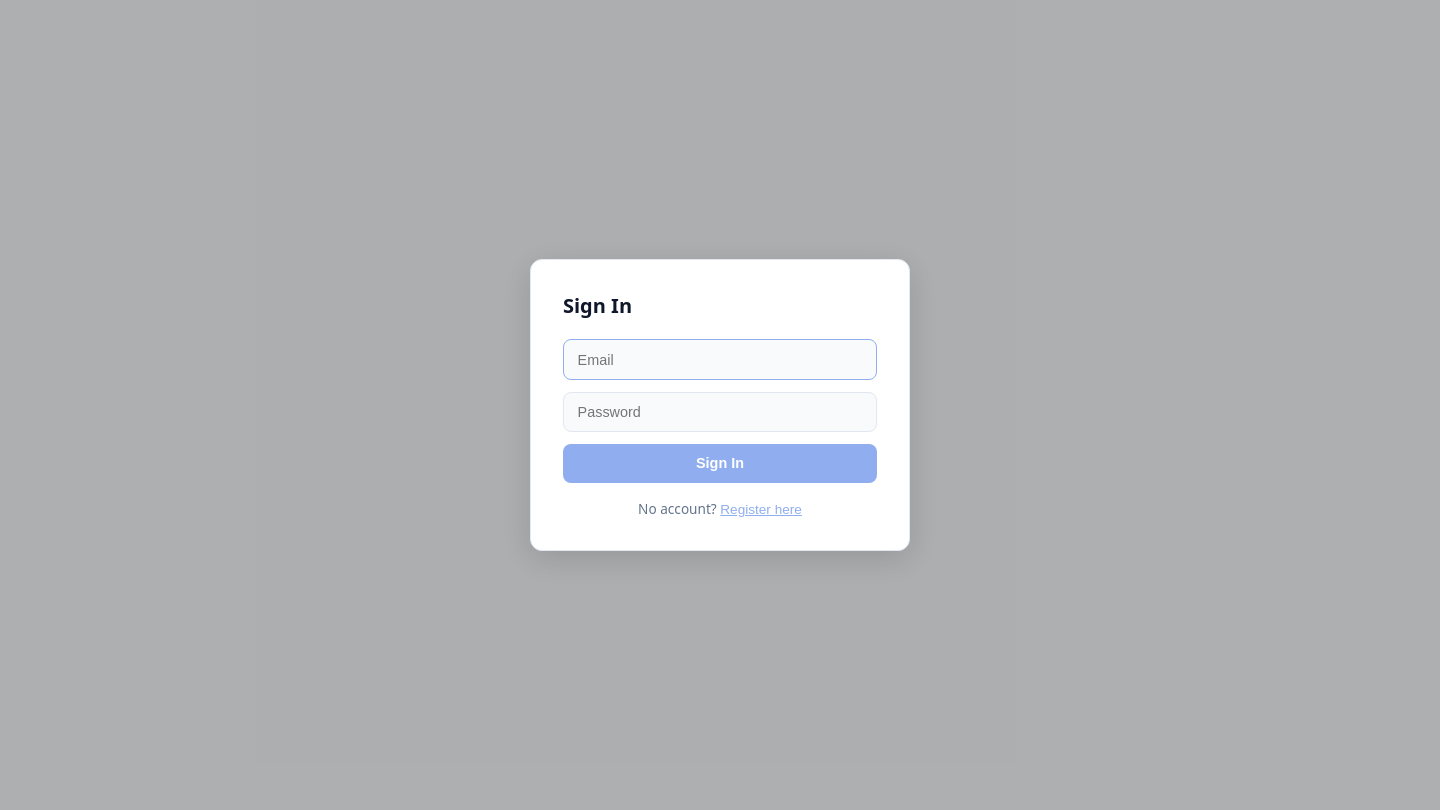
Test: AuthModal › should show validation error for empty password on login submit
In the field with placeholder "Email": [720, 360] box [563,339,877,380], type "a@b.com"
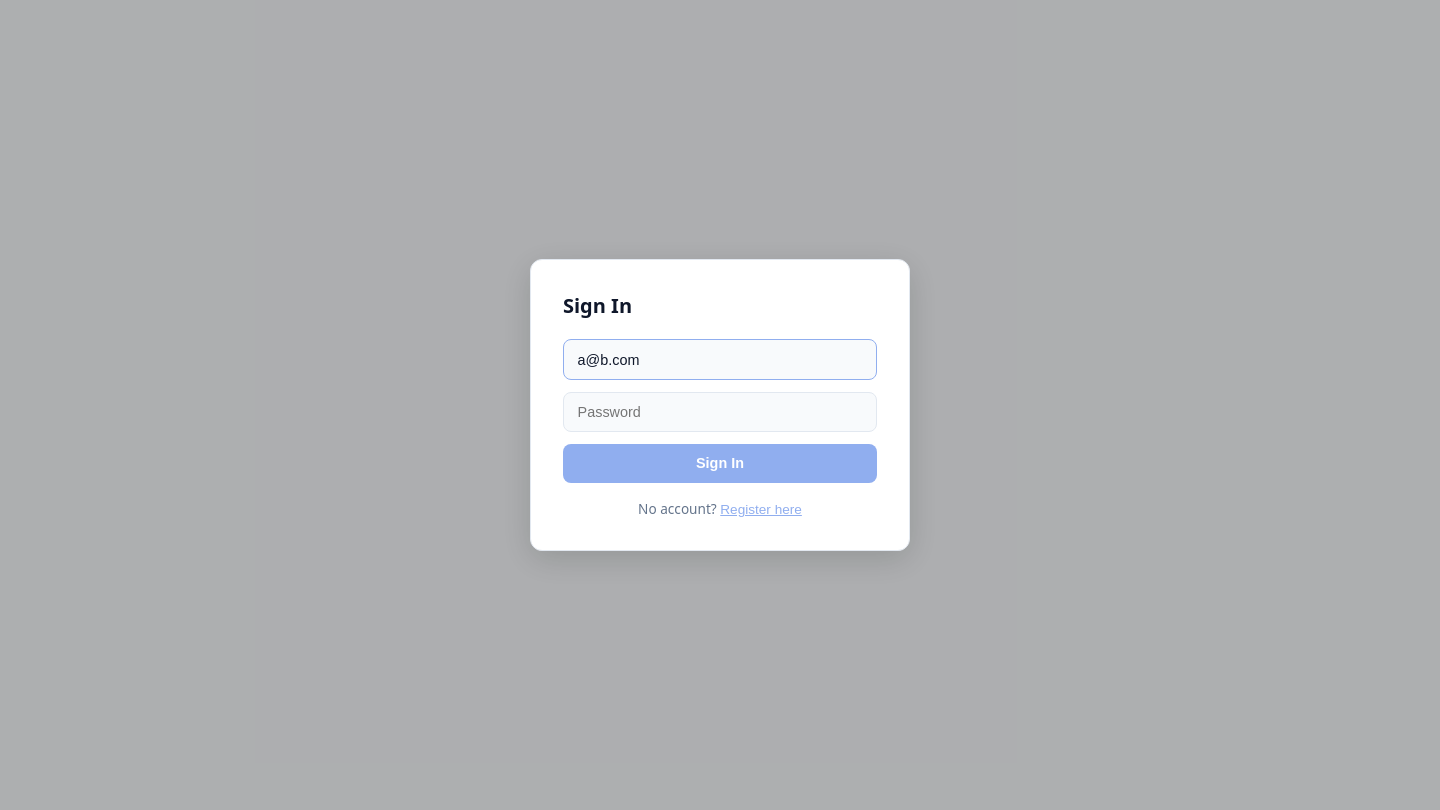
Click the button "Sign In": [720, 463] box [563,444,877,483]
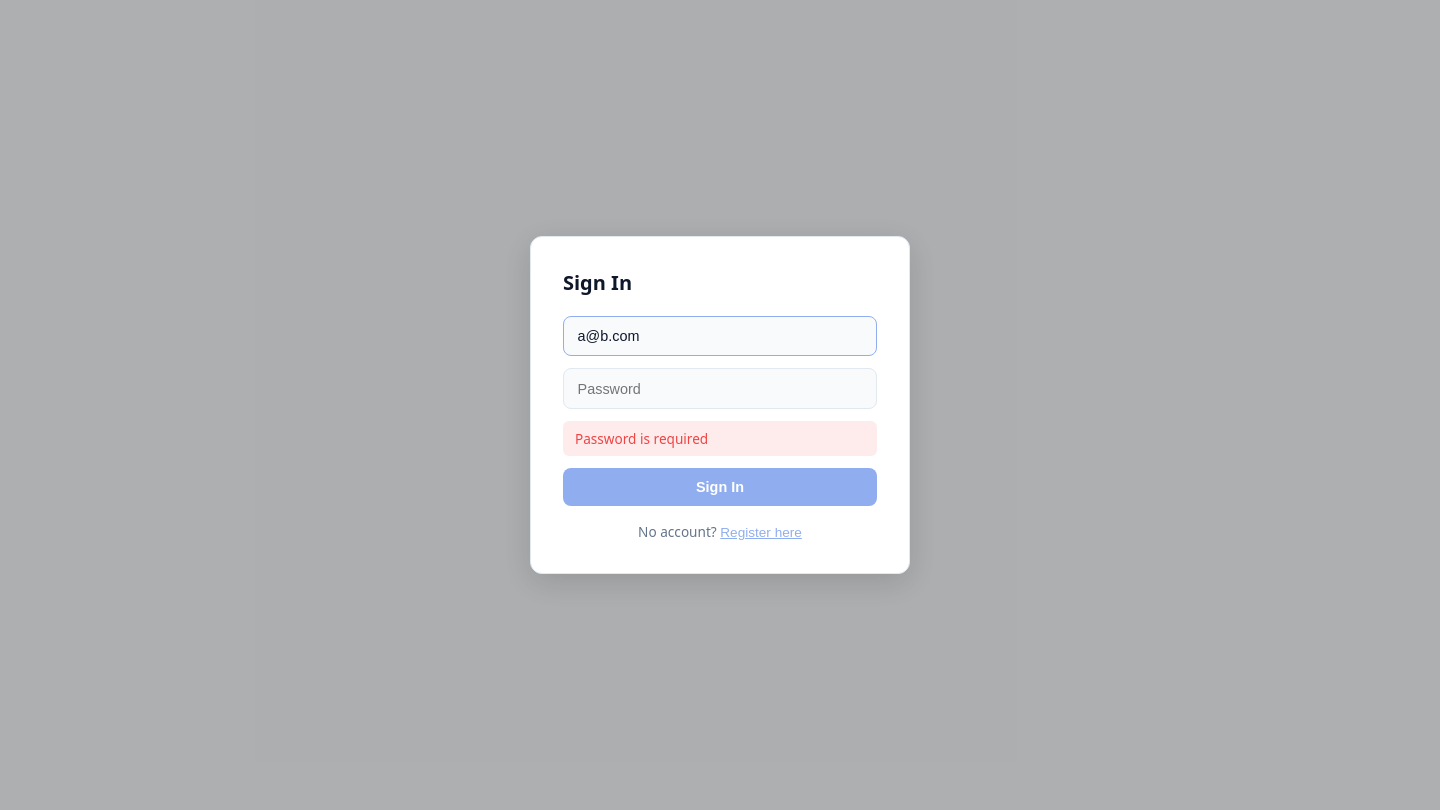
Now the text "Password is required" is shown, box [563,421,877,456]
